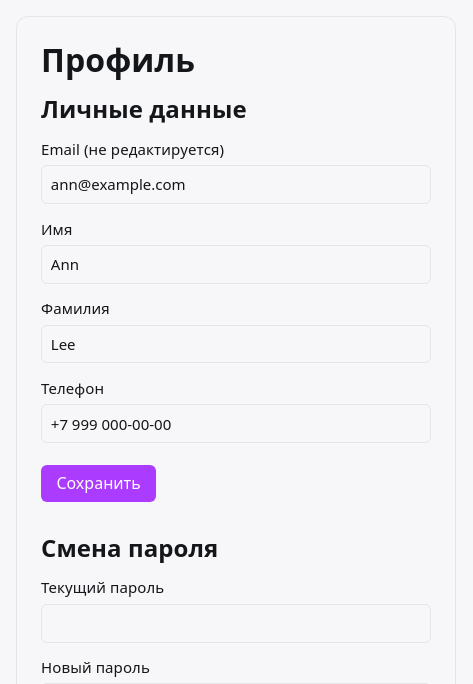
Test case: ProfilePage › некорректный телефон → ошибка
Replace the text in the field labelled "Телефон" with "abc" at {"x": 236, "y": 424}, box [41,404,431,443]
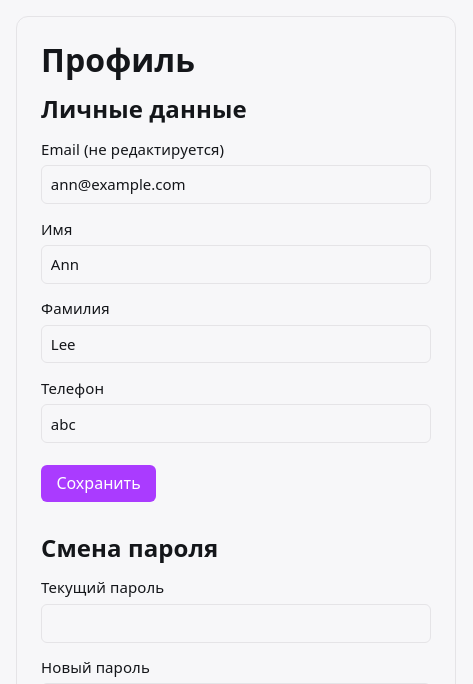
Submit the form that starts with "Личные данные", box [41,95,431,502]
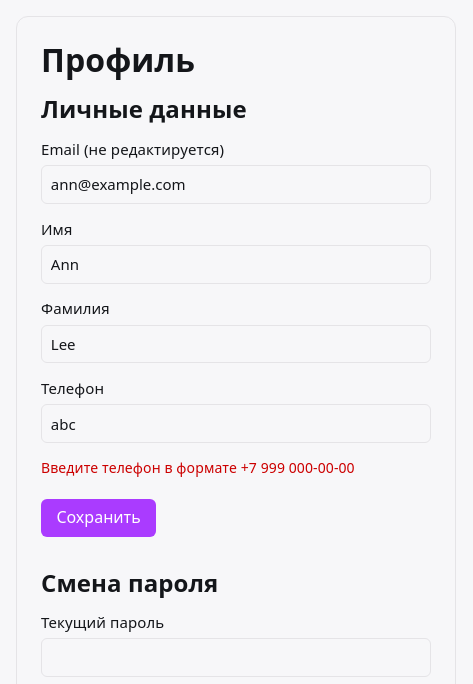
Now the text "Введите телефон в формате +7 999 000-00-00" is shown, box [41,458,355,477]
